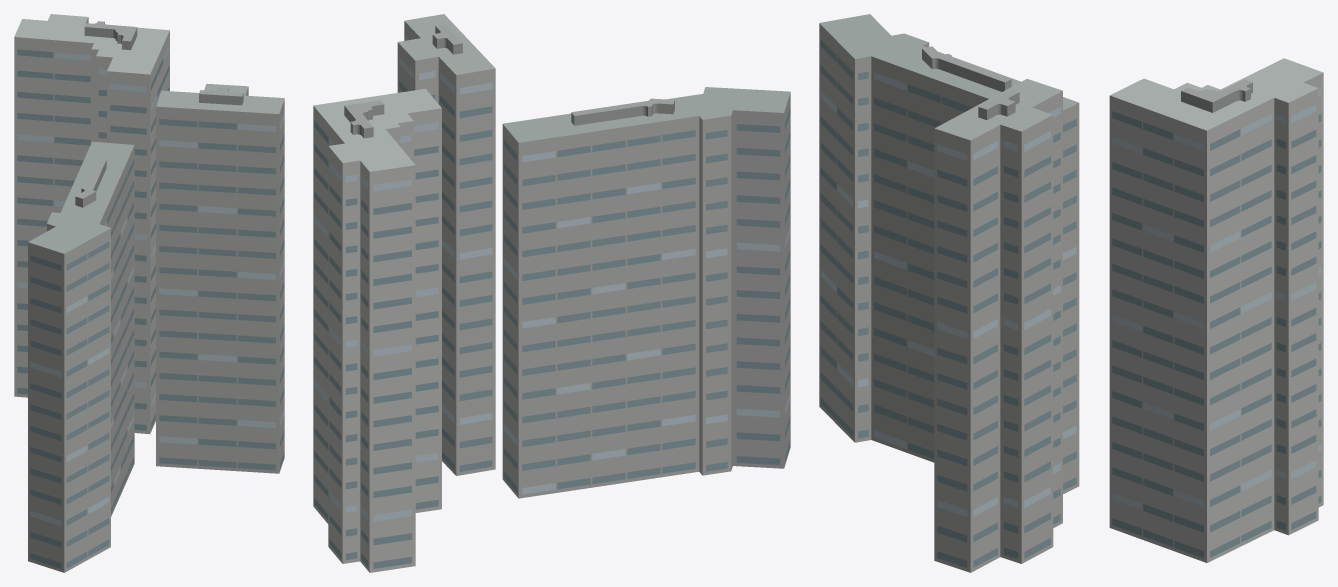
Rendered from apt-a10023462.glb.
The picture shows the model from 3 angles, left to right: view 1: azimuth 30°, elevation 25°; view 2: azimuth 150°, elevation 25°; view 3: azimuth 270°, elevation 25°; orthographic projection. The views are drawn at different scales.
Parts seen in each view (by area): view 1: apt-a10023462; view 2: apt-a10023462; view 3: apt-a10023462.
Boxes of the visible parts, box(x1,y1,x2,y2) form: apt-a10023462: box(14, 14, 284, 572); apt-a10023462: box(313, 14, 790, 572); apt-a10023462: box(819, 14, 1323, 572).
Bounding box in the file's own units: 84.85 × 100 × 103.
